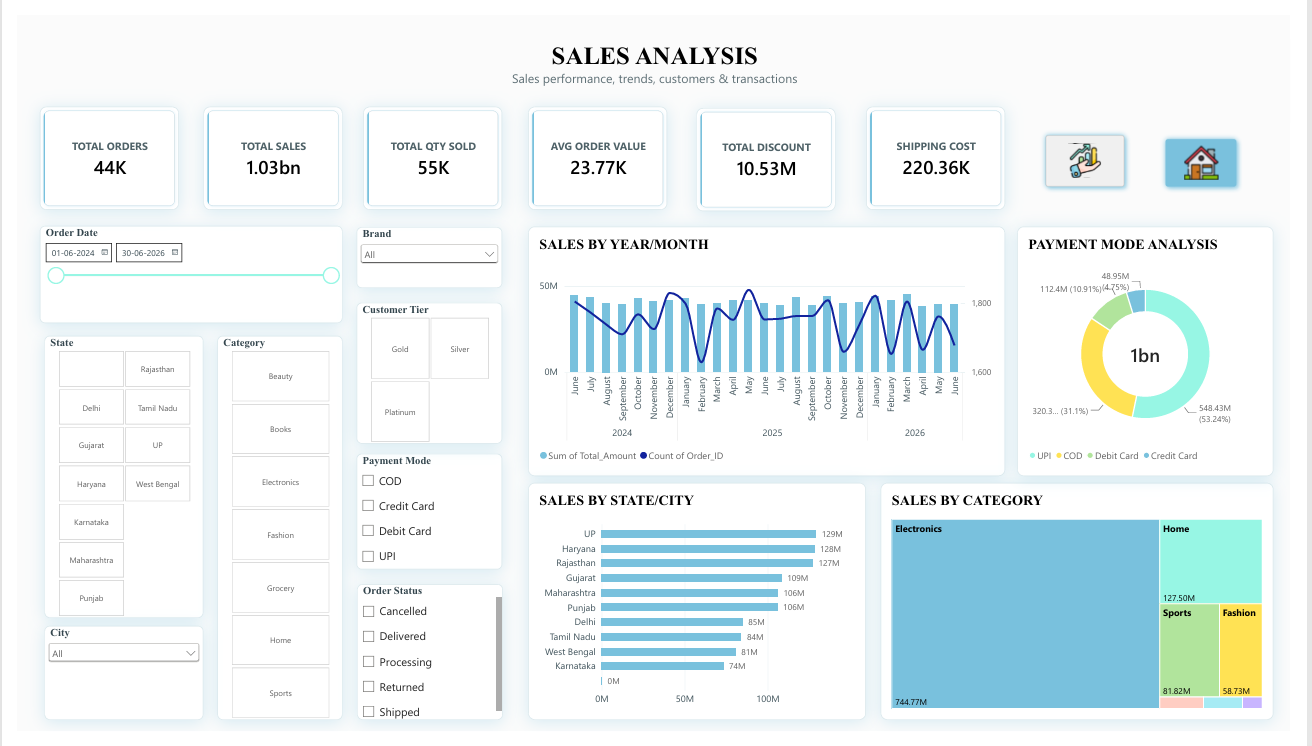

This screenshot's page, from the dashboard's own definition file:
{"tool":"powerbi","page":{"name":"SALES","canvas":[1920,1080],"ordinal":3},"visuals":[{"type":"textbox","box":[1.7,38.3,1918.3,98.3],"z":0},{"type":"slicer","fields":{"Values":["sales.Order_Date"]},"box":[32.9,317.1,457.1,147.1],"z":1000},{"type":"slicer","fields":{"Values":["sales.State"]},"box":[40,482.9,240,425.7],"z":2000},{"type":"slicer","fields":{"Values":["product.Brand"]},"box":[511.4,318.6,220,92.9],"z":3000},{"type":"slicer","fields":{"Values":["product.Category"]},"box":[301.4,482.9,188.6,580],"z":4000},{"type":"slicer","fields":{"Values":["sales.Payment_Mode"]},"box":[511.4,661.4,220,174.3],"z":5000},{"type":"slicer","fields":{"Values":["sales.City"]},"box":[40,921.4,240,141.4],"z":6000},{"type":"slicer","fields":{"Values":["customer.Customer_Tier"]},"box":[511.4,432.9,220,212.9],"z":7000},{"type":"slicer","fields":{"Values":["sales.Order_Status"]},"box":[511.7,858.3,220,205],"z":8000},{"type":"cardVisual","fields":{"Data":["customer.TOTAL ORDERS"]},"box":[32.9,137.1,210,156],"z":9000},{"type":"cardVisual","fields":{"Data":["customer.TOTAL SALES"]},"box":[280,137.1,210,156],"z":10000},{"type":"cardVisual","fields":{"Data":["Sum(sales.Shipping_Cost)"]},"box":[1280,137.1,210,156],"z":11000},{"type":"cardVisual","fields":{"Data":["sales.TOTAL QUANTITY SOLD"]},"box":[521.4,137.1,210,156],"z":12000},{"type":"cardVisual","fields":{"Data":["sales.AVERAGE ORDER VALUE"]},"box":[770,137.1,210,156],"z":13000},{"type":"cardVisual","fields":{"Data":["sales.TOTAL DISCOUNT"]},"box":[1024.3,138.6,210,156],"z":14000},{"type":"lineClusteredColumnComboChart","title":"SALES BY YEAR/MONTH","fields":{"Category":["sales.Order_Date.Variation.Date Hierarchy.Year","sales.Order_Date.Variation.Date Hierarchy.Month"],"Y":["Sum(sales.Total_Amount)"],"Y2":["Count(sales.Order_ID)"]},"box":[770,318.3,720,376.7],"z":15000},{"type":"treemap","title":"SALES BY CATEGORY","fields":{"Group":["product.Category"],"Values":["Sum(sales.Total_Amount)"]},"box":[1301.7,705,593.3,358.3],"z":16000},{"type":"clusteredBarChart","title":"SALES BY STATE/CITY","fields":{"Category":["sales.State","sales.City"],"Y":["Sum(sales.Total_Amount)"]},"box":[770,705,510,358.3],"z":17000},{"type":"donutChart","title":"PAYMENT MODE ANALYSIS","fields":{"Category":["sales.Payment_Mode"],"Y":["Sum(sales.Total_Amount)"]},"box":[1508.3,318.3,386.7,376.7],"z":18000},{"type":"actionButton","box":[1542.3,171.2,136.2,95.7],"z":19000},{"type":"actionButton","box":[1722.7,176.7,125.2,90.2],"z":20000}]}

Visuals, with their boxes in screenshot pixels (x1, y1, x2, y2), scaled from the page's 1920x1080 canvas onto the 1312x746 screenshot:
textbox: (1,26,1311,94)
slicer - sales.Order_Date: (22,219,335,321)
slicer - sales.State: (27,334,191,628)
slicer - product.Brand: (349,220,500,284)
slicer - product.Category: (206,334,335,734)
slicer - sales.Payment_Mode: (349,457,500,577)
slicer - sales.City: (27,636,191,734)
slicer - customer.Customer_Tier: (349,299,500,446)
slicer - sales.Order_Status: (350,593,500,734)
cardVisual - customer.TOTAL ORDERS: (22,95,166,202)
cardVisual - customer.TOTAL SALES: (191,95,335,202)
cardVisual - Sum(sales.Shipping_Cost): (875,95,1018,202)
cardVisual - sales.TOTAL QUANTITY SOLD: (356,95,500,202)
cardVisual - sales.AVERAGE ORDER VALUE: (526,95,670,202)
cardVisual - sales.TOTAL DISCOUNT: (700,96,843,203)
"SALES BY YEAR/MONTH" lineClusteredColumnComboChart: (526,220,1018,480)
"SALES BY CATEGORY" treemap: (889,487,1295,734)
"SALES BY STATE/CITY" clusteredBarChart: (526,487,875,734)
"PAYMENT MODE ANALYSIS" donutChart: (1031,220,1295,480)
actionButton: (1054,118,1147,184)
actionButton: (1177,122,1263,184)
